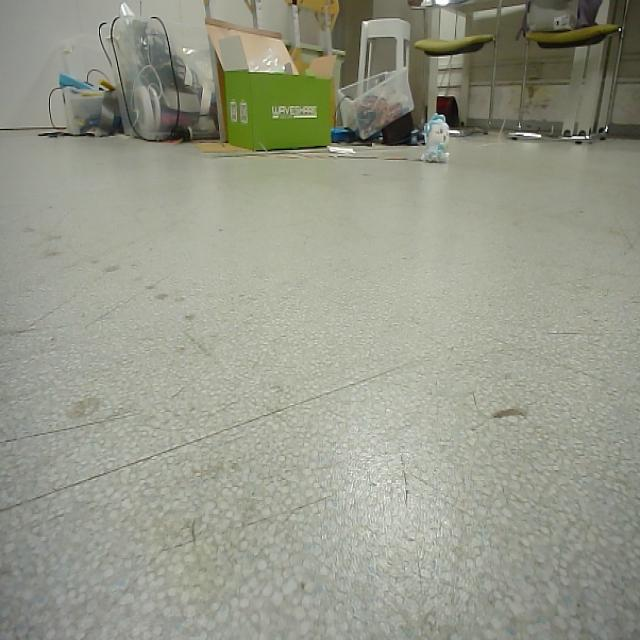xiaoba: (423, 112, 453, 166)
